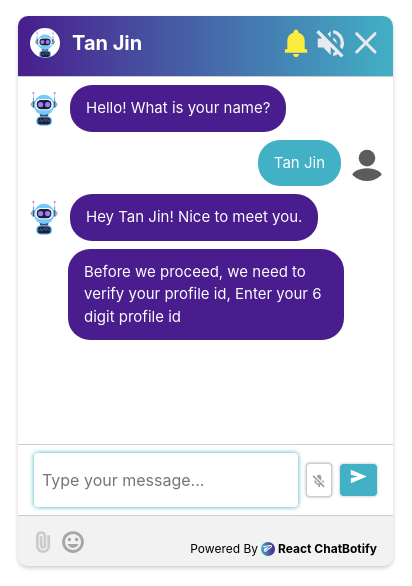
Test: Chat Bot Test Suite › Sensitive input should be masked
In the password field with placeholder "Type your message...": (166, 480) x1=34 y1=453 x2=298 y2=507, type "123456"
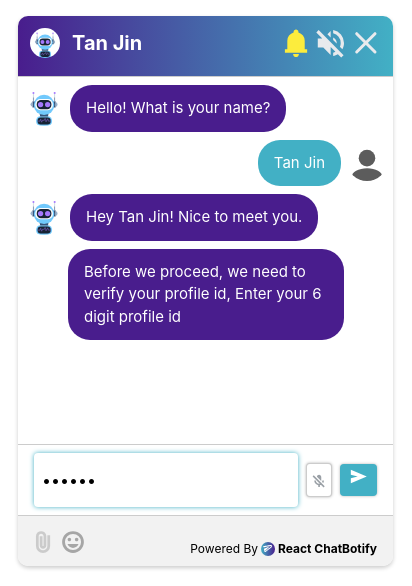
Click the button named "send message": click(359, 480) x1=340 y1=464 x2=378 y2=496
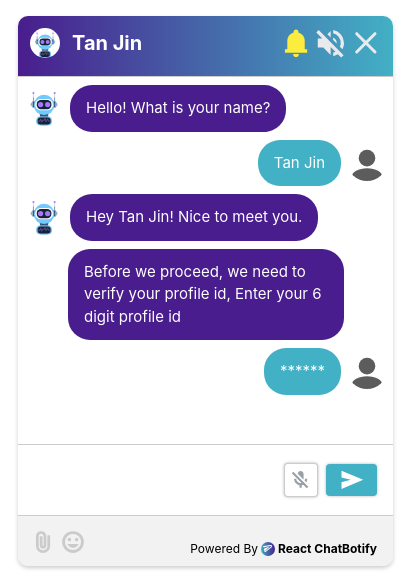
Expected: the text "******" is shown, x1=264 y1=348 x2=341 y2=394
